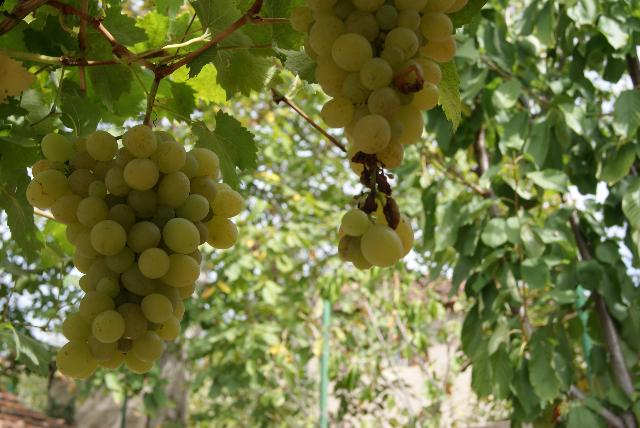grapes: (26, 125, 241, 379), (290, 0, 469, 270)
